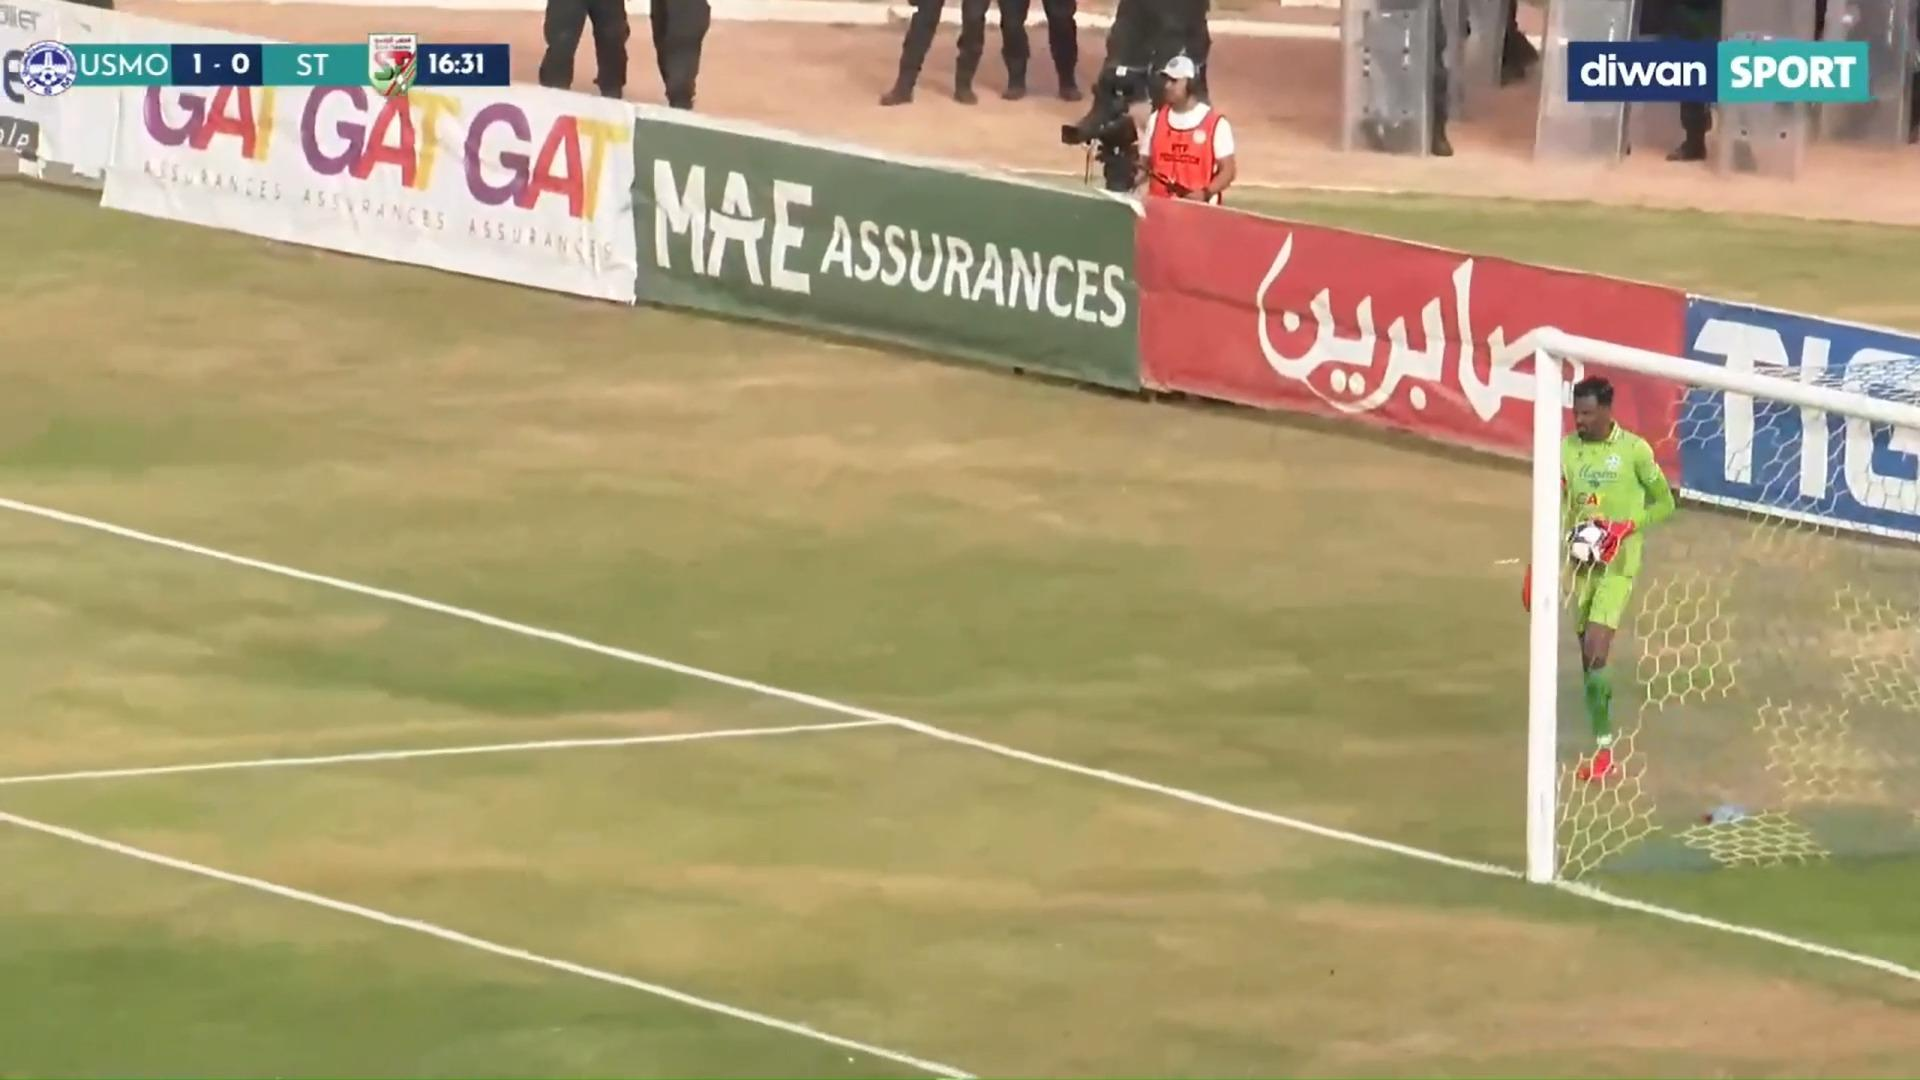ball: (1539, 501, 1629, 588)
goalkeeper: (1503, 364, 1681, 791)
